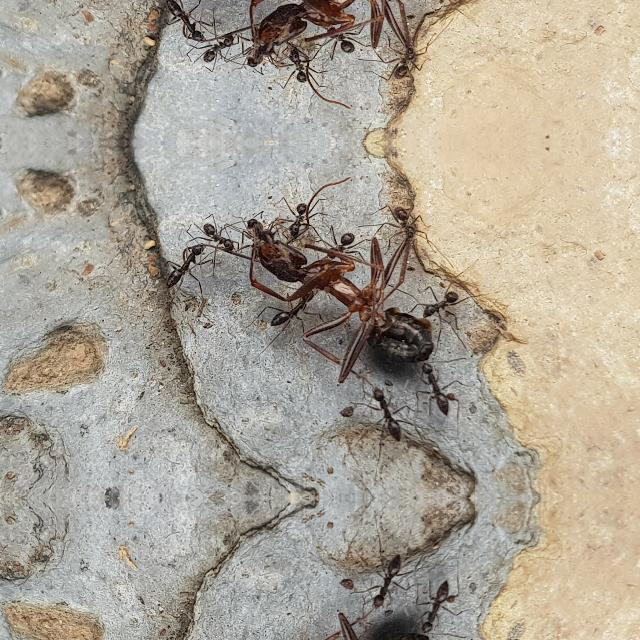Camponotus: (358, 381, 424, 443), (358, 552, 424, 614), (154, 237, 222, 296), (152, 0, 221, 46), (264, 283, 312, 333), (419, 355, 455, 417), (419, 578, 455, 640), (186, 216, 242, 254), (186, 30, 242, 68), (410, 286, 468, 322), (232, 212, 284, 250), (232, 34, 284, 72), (278, 196, 324, 238), (278, 46, 324, 88), (382, 198, 423, 242), (382, 42, 423, 86), (317, 226, 359, 264), (317, 20, 359, 58)
